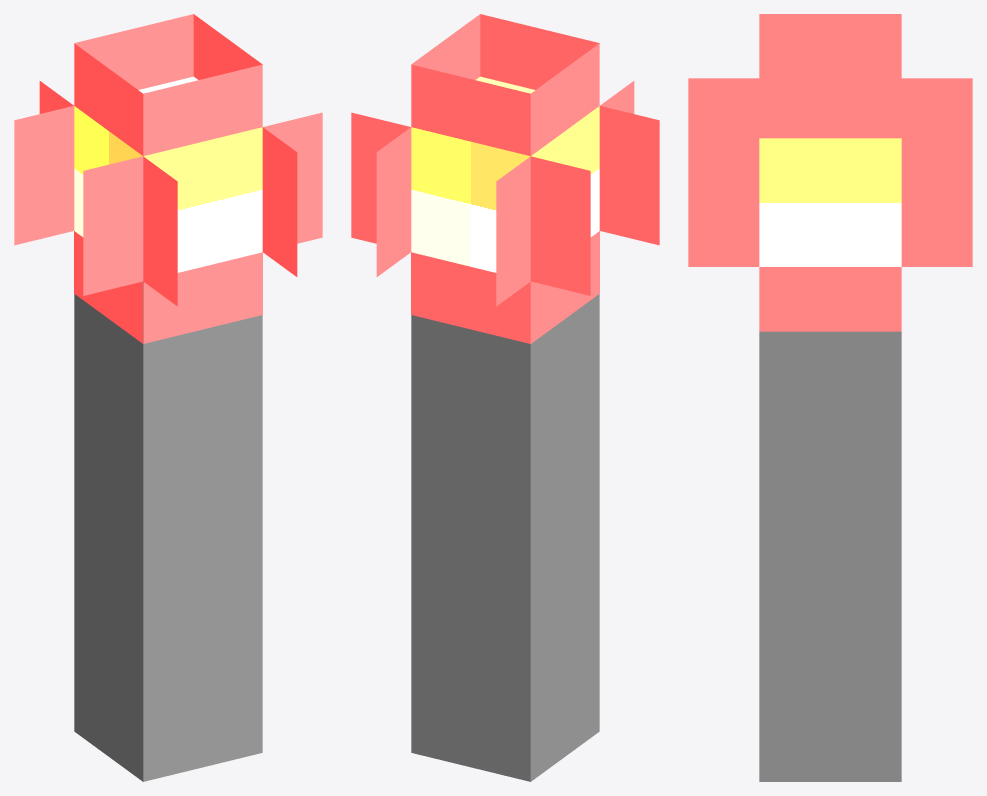
Rendered from torch.fbx.
3 views of the same model, side by side, from view 1: azimuth 30°, elevation 25°; view 2: azimuth 150°, elevation 25°; view 3: azimuth 270°, elevation 25° (orthographic). The views are drawn at different scales.
Parts seen in each view (by area): view 1: Torch, Torch Redstone Outline; view 2: Torch, Torch Redstone Outline; view 3: Torch, Torch Redstone Outline.
Boxes of the visible parts, x1,y1,x2,y2 form: Torch: (74,76,262,781); Torch Redstone Outline: (14,14,322,343); Torch: (411,76,599,781); Torch Redstone Outline: (351,14,659,343); Torch: (759,138,901,781); Torch Redstone Outline: (688,14,972,331).
Bounding box in the file's own units: 4 × 11 × 4.
